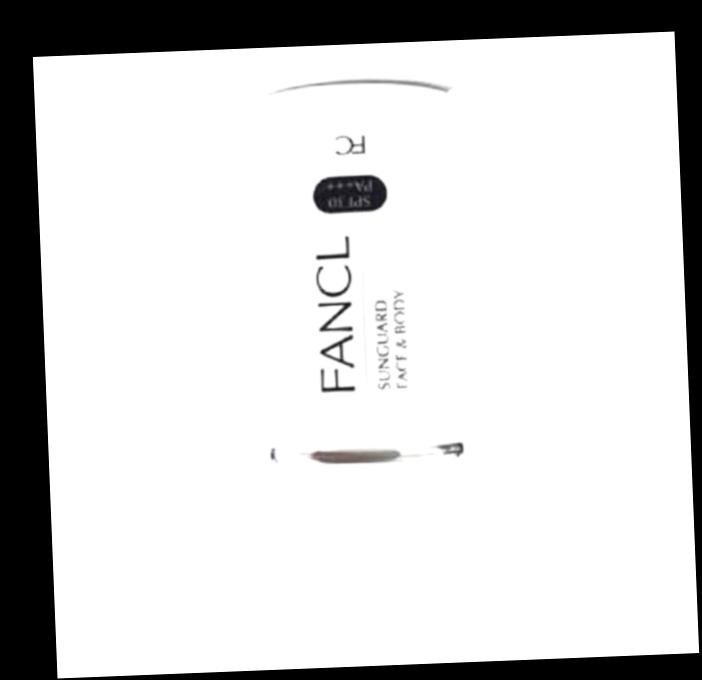cosmetic: (242, 77, 480, 586)
